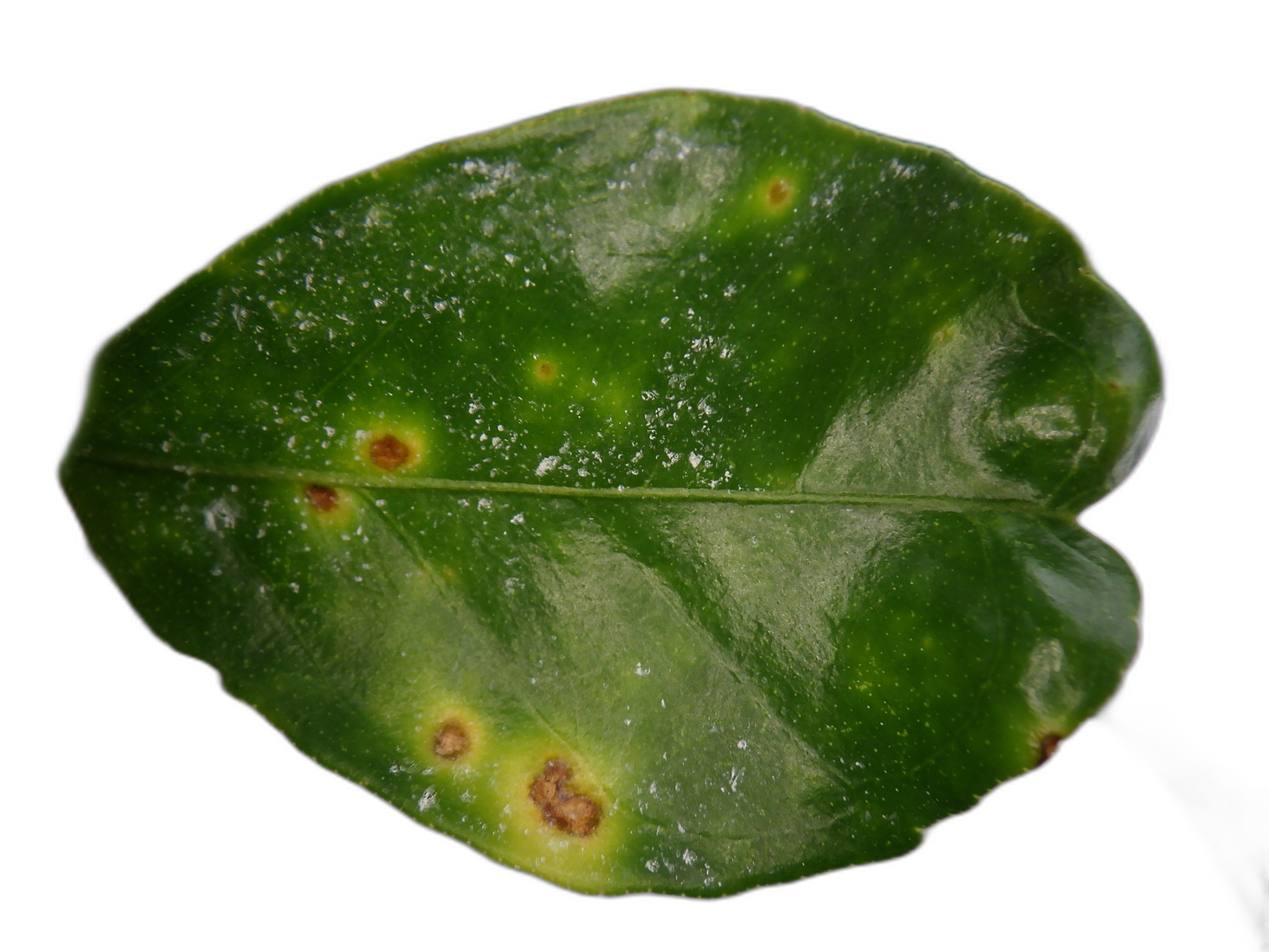Canker: (525, 754, 605, 839), (365, 432, 412, 473), (430, 718, 473, 762), (302, 477, 344, 515), (1037, 729, 1065, 766)
